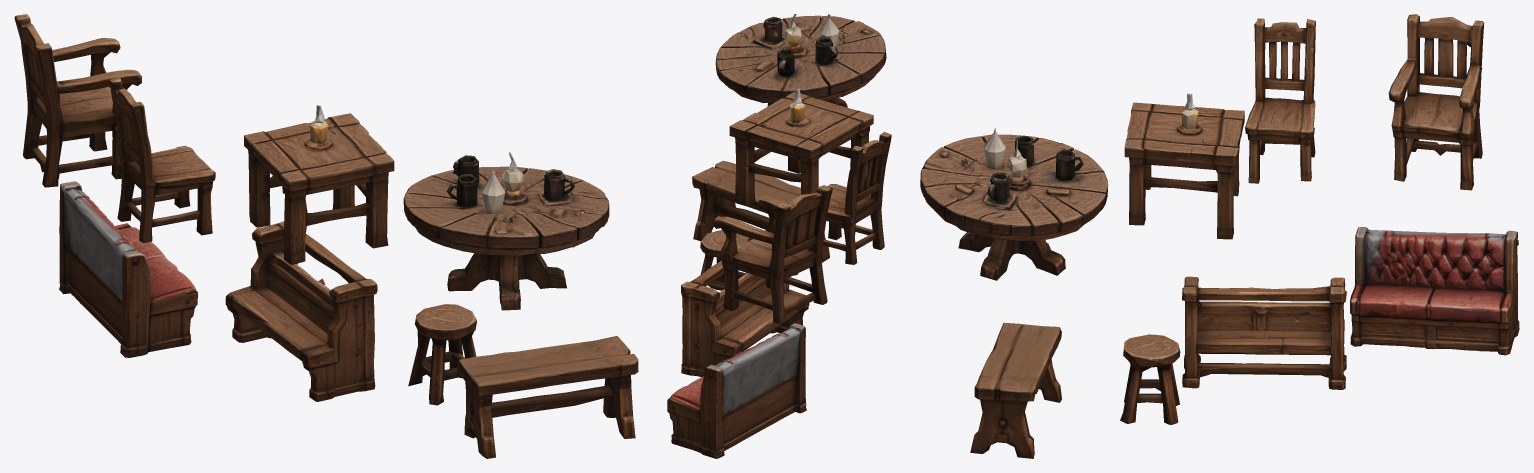
File: tripo_convert_b1713160-0a9c-4227-bd75-522ffa10b8e8.obj
3 views of the same model, side by side, from view 1: azimuth 30°, elevation 25°; view 2: azimuth 150°, elevation 25°; view 3: azimuth 270°, elevation 25° (orthographic). The views are drawn at different scales.
Parts seen in each view (by area): view 1: tripo_part_1, tripo_part_0, tripo_part_2, tripo_part_5, tripo_part_6, tripo_part_3, tripo_part_4, tripo_part_7, tripo_part_12, tripo_part_14, tripo_part_10, tripo_part_8; view 2: tripo_part_2, tripo_part_1, tripo_part_3, tripo_part_5, tripo_part_0, tripo_part_4, tripo_part_6, tripo_part_7, tripo_part_8, tripo_part_14, tripo_part_10, tripo_part_9 (+2 smaller); view 3: tripo_part_2, tripo_part_1, tripo_part_0, tripo_part_3, tripo_part_5, tripo_part_6, tripo_part_4, tripo_part_7, tripo_part_12, tripo_part_14, tripo_part_9, tripo_part_10 (+1 smaller).
Part boxes in pixels (x1=…): tripo_part_1: x1=403, y1=166, x2=609, y2=310; tripo_part_0: x1=225, y1=221, x2=377, y2=401; tripo_part_2: x1=59, y1=181, x2=197, y2=357; tripo_part_5: x1=244, y1=113, x2=394, y2=264; tripo_part_6: x1=457, y1=336, x2=638, y2=458; tripo_part_3: x1=14, y1=14, x2=141, y2=187; tripo_part_4: x1=109, y1=77, x2=215, y2=243; tripo_part_7: x1=408, y1=304, x2=476, y2=405; tripo_part_12: x1=479, y1=170, x2=505, y2=217; tripo_part_14: x1=501, y1=152, x2=527, y2=204; tripo_part_10: x1=304, y1=105, x2=333, y2=151; tripo_part_8: x1=538, y1=169, x2=571, y2=203; tripo_part_2: x1=667, y1=323, x2=806, y2=458; tripo_part_1: x1=715, y1=15, x2=886, y2=107; tripo_part_3: x1=712, y1=185, x2=832, y2=323; tripo_part_5: x1=729, y1=92, x2=873, y2=206; tripo_part_0: x1=681, y1=238, x2=809, y2=376; tripo_part_4: x1=816, y1=132, x2=891, y2=264; tripo_part_6: x1=692, y1=160, x2=829, y2=275; tripo_part_7: x1=700, y1=230, x2=748, y2=290; tripo_part_8: x1=753, y1=16, x2=784, y2=46; tripo_part_14: x1=782, y1=14, x2=807, y2=58; tripo_part_10: x1=786, y1=88, x2=809, y2=126; tripo_part_9: x1=777, y1=48, x2=794, y2=76; tripo_part_2: x1=1350, y1=227, x2=1519, y2=355; tripo_part_1: x1=920, y1=134, x2=1108, y2=280; tripo_part_0: x1=1182, y1=276, x2=1346, y2=389; tripo_part_3: x1=1388, y1=14, x2=1484, y2=190; tripo_part_5: x1=1124, y1=102, x2=1244, y2=239; tripo_part_6: x1=970, y1=322, x2=1061, y2=458; tripo_part_4: x1=1245, y1=18, x2=1315, y2=183; tripo_part_7: x1=1120, y1=334, x2=1180, y2=424; tripo_part_12: x1=982, y1=128, x2=1006, y2=172; tripo_part_14: x1=1006, y1=139, x2=1030, y2=190; tripo_part_9: x1=1056, y1=149, x2=1083, y2=180; tripo_part_10: x1=1176, y1=93, x2=1202, y2=135.
Size of the model in its own units: 0.6531 by 0.5082 by 0.9796.
1 material, 1 textured.
